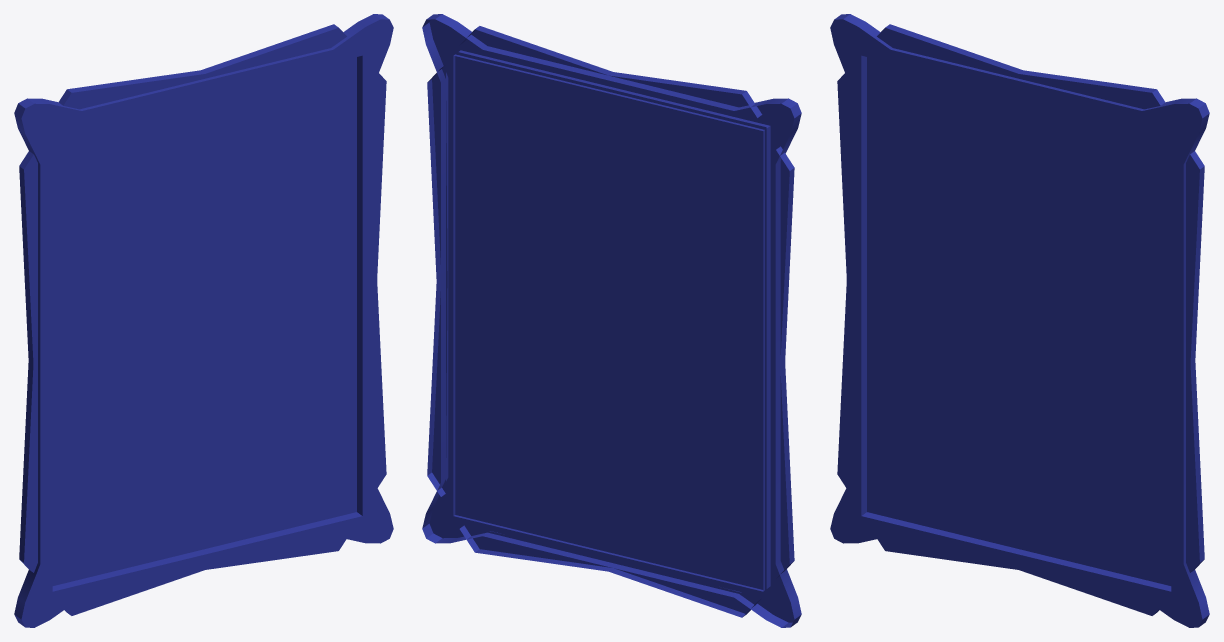
Rendered from quadro.fbx.
3 renders of one model, left to right at view 1: azimuth 30°, elevation 25°; view 2: azimuth 150°, elevation 25°; view 3: azimuth 330°, elevation 25°, orthographic.
Visible parts, largest first — view 1: quadro; view 2: quadro; view 3: quadro.
Boxes of the visible parts, <box> form: quadro: <box>14,14,393,627</box>; quadro: <box>422,14,801,627</box>; quadro: <box>830,14,1209,627</box>.
Size of the model in its own units: 0.9419 by 1.27 by 0.0319.
